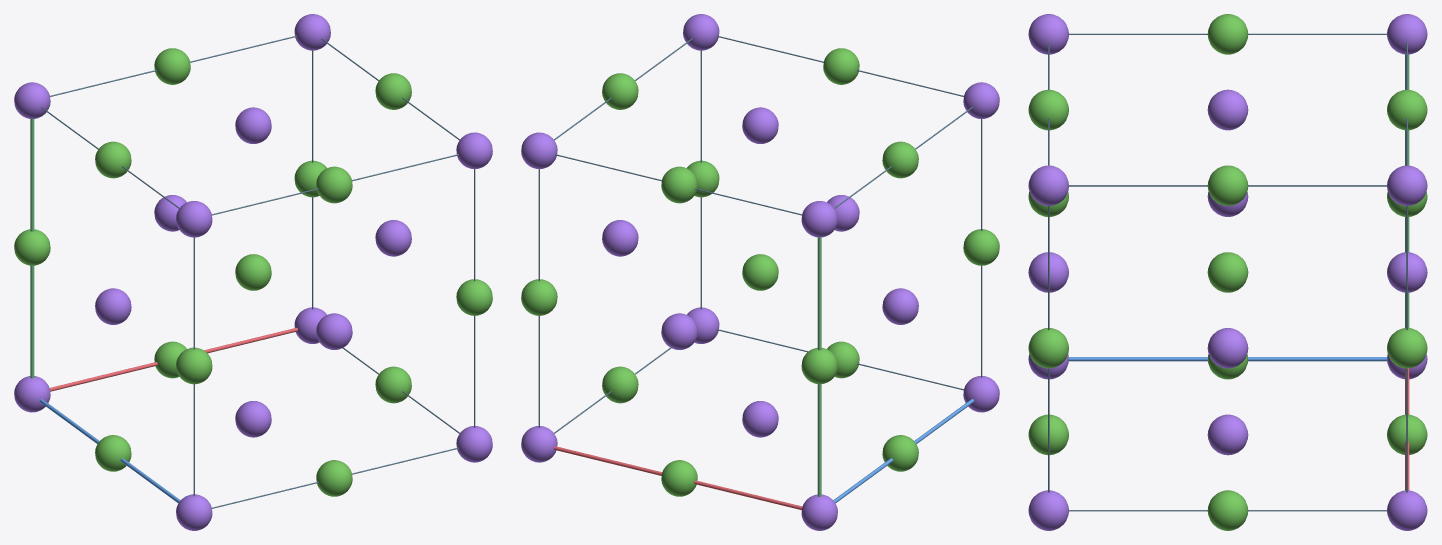
Rendered from halite.glb.
3 renders of one model, left to right at view 1: azimuth 30°, elevation 25°; view 2: azimuth 150°, elevation 25°; view 3: azimuth 270°, elevation 25°, orthographic. The views are drawn at different scales.
Visible parts, largest first — view 1: Na · Na · 1 (×14), Cl · Cl · 1 (×13), Ô mạng và các trục a, b, c; view 2: Na · Na · 1 (×14), Cl · Cl · 1 (×13), Ô mạng và các trục a, b, c; view 3: Na · Na · 1 (×12), Cl · Cl · 1 (×11), Ô mạng và các trục a, b, c.
Part boxes in pixels (x1,y1,x2,y2): Na · Na · 1 (×14): (14,14,492,530); Cl · Cl · 1 (×13): (14,48,492,496); Ô mạng và các trục a, b, c: (30,35,475,508); Na · Na · 1 (×14): (521,14,999,530); Cl · Cl · 1 (×13): (521,48,999,496); Ô mạng và các trục a, b, c: (538,35,982,510); Na · Na · 1 (×12): (1028,14,1427,530); Cl · Cl · 1 (×11): (1028,14,1427,530); Ô mạng và các trục a, b, c: (1048,33,1409,511).
Size of the model in its own units: 6.28 by 6.28 by 6.28.
